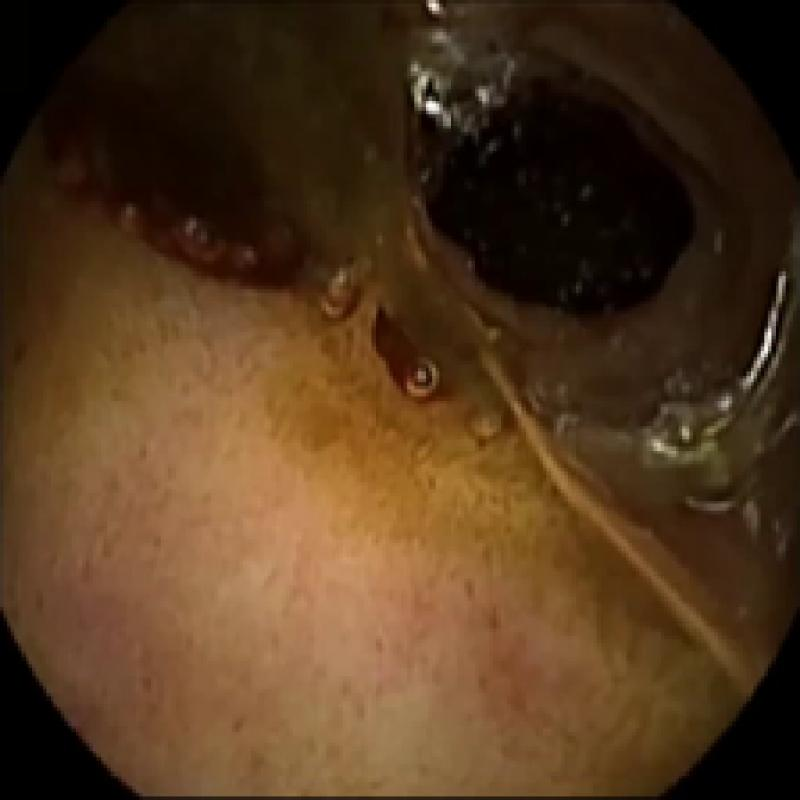bleeding: (423, 88, 699, 299), (46, 61, 293, 289), (366, 302, 430, 399)
